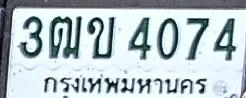0: (156, 17, 179, 60)
3: (18, 15, 42, 58)
4: (213, 17, 236, 61), (128, 16, 150, 60)
7: (186, 16, 210, 60)
A02: (86, 16, 116, 59)
A18: (48, 15, 82, 59)
BKK: (39, 72, 212, 98)
